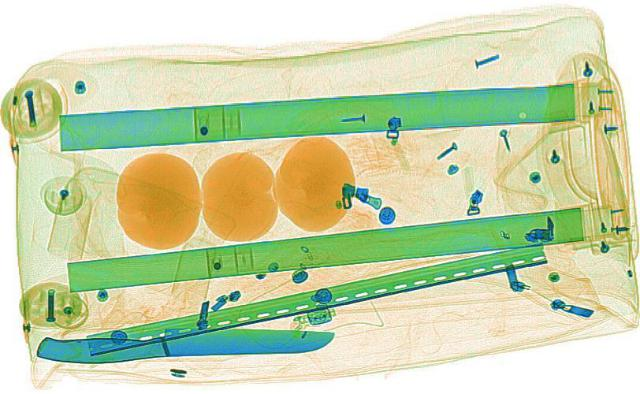Knife: (34, 318, 334, 362)
